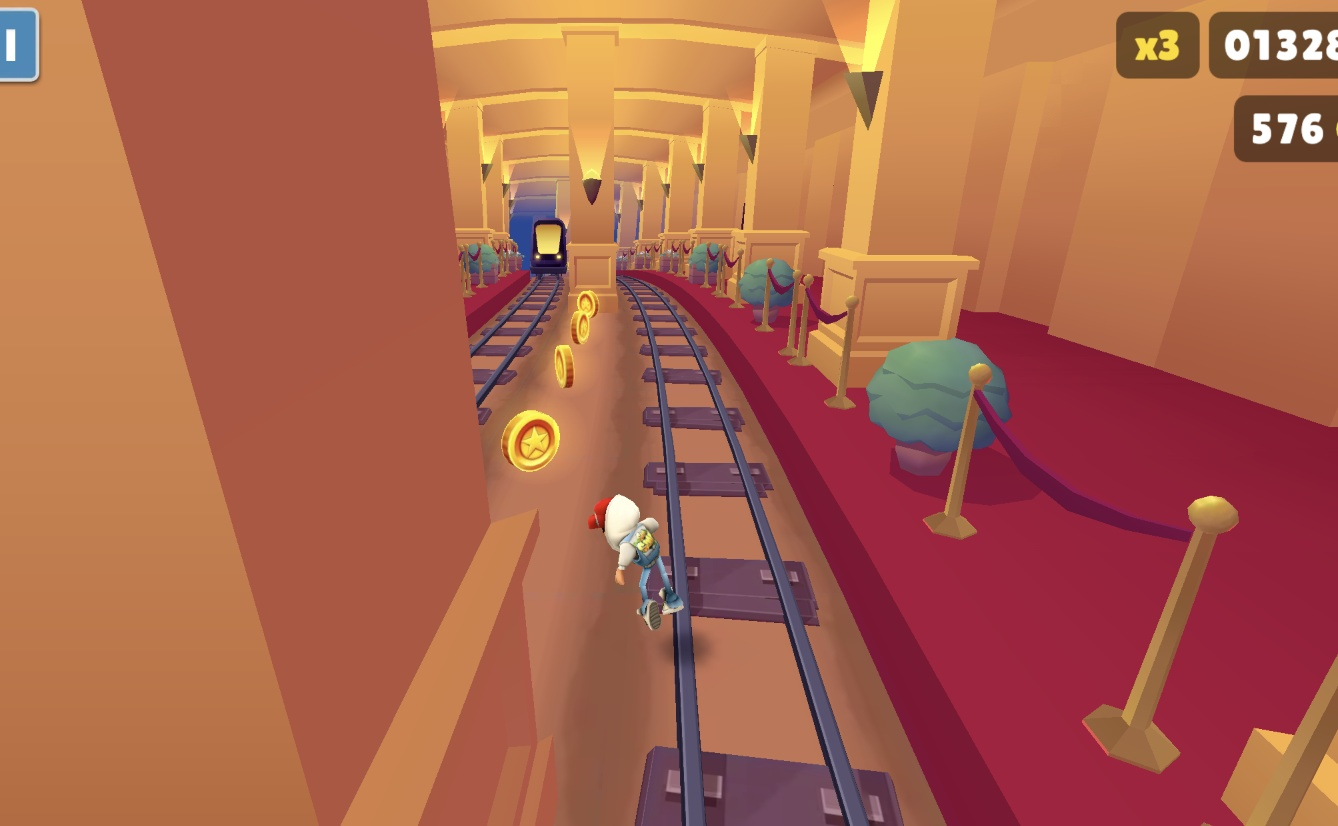pillar: (0, 0, 532, 826), (564, 37, 617, 322)
train: (527, 215, 567, 282)
